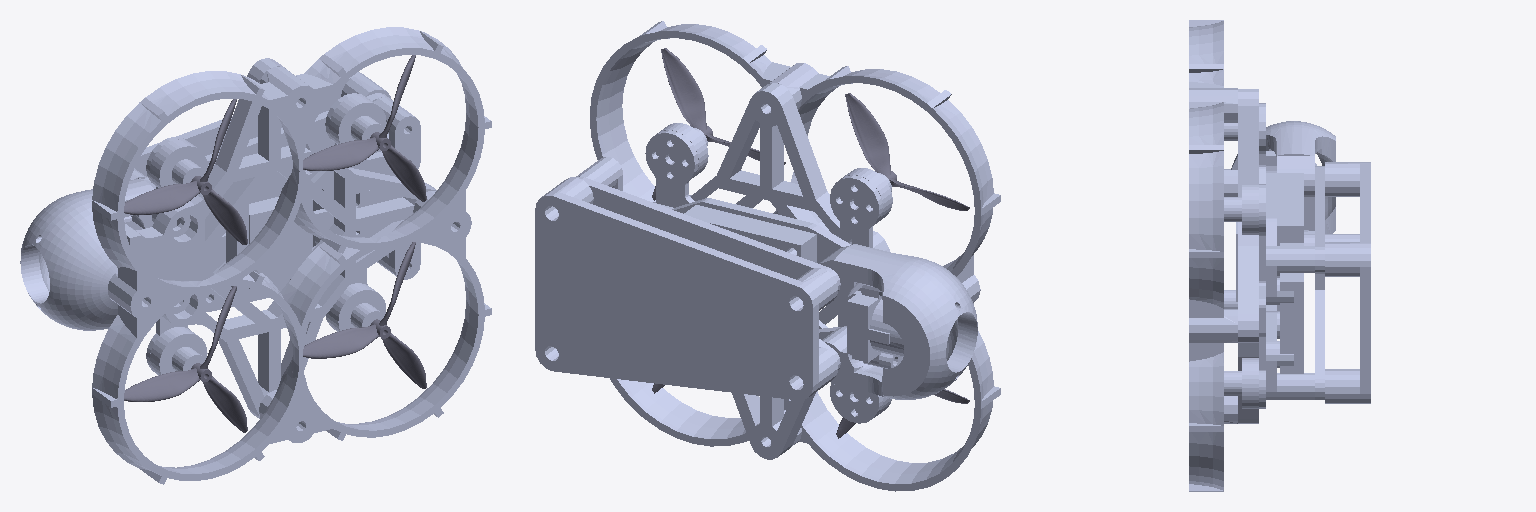
The robot description file, URDF, robot "urdf-2":
<?xml version="1.0" encoding="utf-8"?>
<!-- This URDF was automatically created by SolidWorks to URDF Exporter! Originally created by Stephen Brawner (brawner@gmail.com) 
     Commit Version: 1.6.0-4-g7f85cfe  Build Version: 1.6.7995.38578
     For more information, please see http://wiki.ros.org/sw_urdf_exporter -->
<robot
  name="urdf-2">
  <link
    name="base_link">
    <inertial>
      <origin
        xyz="0.0629329245442759 -7.11768680834069E-07 -0.00277065256475653"
        rpy="0 0 0" />
      <mass
        value="0.0981825069826134" />
      <inertia
        ixx="3.68177462569897E-05"
        ixy="-7.10951958635519E-10"
        ixz="2.09642178111731E-07"
        iyy="5.2754760757402E-05"
        iyz="2.08251004628832E-12"
        izz="8.7330205147053E-05" />
    </inertial>
    <visual>
      <origin
        xyz="0 0 0"
        rpy="0 0 0" />
      <geometry>
        <mesh
          filename="package://urdf-2/meshes/base_link.STL" />
      </geometry>
      <material
        name="">
        <color
          rgba="0.792156862745098 0.819607843137255 0.933333333333333 1" />
      </material>
    </visual>
    <collision>
      <origin
        xyz="0 0 0"
        rpy="0 0 0" />
      <geometry>
        <mesh
          filename="package://urdf-2/meshes/base_link.STL" />
      </geometry>
    </collision>
  </link>
  <link
    name="ra">
    <inertial>
      <origin
        xyz="-0.0172031802194192 -0.0170833979709927 -0.0337538255087986"
        rpy="0 0 0" />
      <mass
        value="0.0981772515322827" />
      <inertia
        ixx="0.000108052343593525"
        ixy="1.12519867373853E-06"
        ixz="1.7218184232583E-05"
        iyy="0.000137077993812491"
        iyz="-3.1717820031581E-06"
        izz="6.56327024661947E-05" />
    </inertial>
    <visual>
      <origin
        xyz="0 0 0"
        rpy="0 0 0" />
      <geometry>
        <mesh
          filename="package://urdf-2/meshes/ra.STL" />
      </geometry>
      <material
        name="">
        <color
          rgba="0.509803921568627 0.509803921568627 0.588235294117647 1" />
      </material>
    </visual>
    <collision>
      <origin
        xyz="0 0 0"
        rpy="0 0 0" />
      <geometry>
        <mesh
          filename="package://urdf-2/meshes/ra.STL" />
      </geometry>
    </collision>
  </link>
  <joint
    name="ralink"
    type="continuous">
    <origin
      xyz="0.0368751820885869 -0.0143116764408675 -0.027500548121649"
      rpy="3.14159265358979 1.22983565169958 0" />
    <parent
      link="base_link" />
    <child
      link="ra" />
    <axis
      xyz="0 -1 0" />
  </joint>
  <link
    name="la">
    <inertial>
      <origin
        xyz="0.0346306819596398 -0.0170833979709927 -0.015362231461454"
        rpy="0 0 0" />
      <mass
        value="0.0981772515322827" />
      <inertia
        ixx="0.000108052343593525"
        ixy="1.12519867373853E-06"
        ixz="1.7218184232583E-05"
        iyy="0.000137077993812491"
        iyz="-3.1717820031581E-06"
        izz="6.56327024661947E-05" />
    </inertial>
    <visual>
      <origin
        xyz="0 0 0"
        rpy="0 0 0" />
      <geometry>
        <mesh
          filename="package://urdf-2/meshes/la.STL" />
      </geometry>
      <material
        name="">
        <color
          rgba="0.509803921568627 0.509803921568627 0.588235294117647 1" />
      </material>
    </visual>
    <collision>
      <origin
        xyz="0 0 0"
        rpy="0 0 0" />
      <geometry>
        <mesh
          filename="package://urdf-2/meshes/la.STL" />
      </geometry>
    </collision>
  </link>
  <joint
    name="lalink"
    type="continuous">
    <origin
      xyz="0.0368751820885869 -0.0143116764408675 0.027499451878351"
      rpy="3.14159265358979 1.22983565169958 0" />
    <parent
      link="base_link" />
    <child
      link="la" />
    <axis
      xyz="0 -1 0" />
  </joint>
  <link
    name="rb">
    <inertial>
      <origin
        xyz="-0.0355947742667638 -0.0170833979709927 0.0180800366702602"
        rpy="0 0 0" />
      <mass
        value="0.0981772515322827" />
      <inertia
        ixx="0.000108052343593525"
        ixy="1.12519867373853E-06"
        ixz="1.7218184232583E-05"
        iyy="0.000137077993812491"
        iyz="-3.1717820031581E-06"
        izz="6.56327024661947E-05" />
    </inertial>
    <visual>
      <origin
        xyz="0 0 0"
        rpy="0 0 0" />
      <geometry>
        <mesh
          filename="package://urdf-2/meshes/rb.STL" />
      </geometry>
      <material
        name="">
        <color
          rgba="0.509803921568627 0.509803921568627 0.588235294117647 1" />
      </material>
    </visual>
    <collision>
      <origin
        xyz="0 0 0"
        rpy="0 0 0" />
      <geometry>
        <mesh
          filename="package://urdf-2/meshes/rb.STL" />
      </geometry>
    </collision>
  </link>
  <joint
    name="rblink"
    type="continuous">
    <origin
      xyz="0.0918751820885868 -0.0143116764408675 -0.027500548121649"
      rpy="3.14159265358979 1.22983565169958 0" />
    <parent
      link="base_link" />
    <child
      link="rb" />
    <axis
      xyz="0 -1 0" />
  </joint>
  <link
    name="lb">
    <inertial>
      <origin
        xyz="0.0162390879122952 -0.0170833979709927 0.0364716307176048"
        rpy="0 0 0" />
      <mass
        value="0.0981772515322827" />
      <inertia
        ixx="0.000108052343593525"
        ixy="1.12519867373853E-06"
        ixz="1.7218184232583E-05"
        iyy="0.000137077993812491"
        iyz="-3.1717820031581E-06"
        izz="6.56327024661947E-05" />
    </inertial>
    <visual>
      <origin
        xyz="0 0 0"
        rpy="0 0 0" />
      <geometry>
        <mesh
          filename="package://urdf-2/meshes/lb.STL" />
      </geometry>
      <material
        name="">
        <color
          rgba="0.509803921568627 0.509803921568627 0.588235294117647 1" />
      </material>
    </visual>
    <collision>
      <origin
        xyz="0 0 0"
        rpy="0 0 0" />
      <geometry>
        <mesh
          filename="package://urdf-2/meshes/lb.STL" />
      </geometry>
    </collision>
  </link>
  <joint
    name="lblink"
    type="continuous">
    <origin
      xyz="0.0918751820885868 -0.0143116764408675 0.027499451878351"
      rpy="3.14159265358979 1.22983565169958 0" />
    <parent
      link="base_link" />
    <child
      link="lb" />
    <axis
      xyz="0 -1 0" />
  </joint>
</robot>

--- Facts derived from the render (not from the file) ---
The picture shows the robot from 3 angles, left to right: view 1: azimuth 30°, elevation 25°; view 2: azimuth 150°, elevation 25°; view 3: azimuth 270°, elevation 25°; orthographic projection.
Model urdf-2 with 5 links and 4 joints (4 continuous), rooted at base_link, posed every joint at zero.
Links seen in each view (by area): view 1: base_link, la, lb, rb, ra; view 2: base_link, la, lb; view 3: base_link.
Link boxes in pixels (box(x1,y1,x2,y2)): base_link: box(20, 27, 491, 484); la: box(124, 99, 247, 244); lb: box(303, 55, 426, 201); rb: box(303, 242, 426, 388); ra: box(124, 286, 247, 432); base_link: box(535, 21, 1000, 491); la: box(845, 93, 969, 210); lb: box(652, 48, 785, 200); base_link: box(1189, 20, 1370, 491).
Size in the robot's own frame: 0.1229 by 0.052 by 0.117 metres.
5 mesh visuals loaded from 5 distinct referenced files (5 binary STL).
